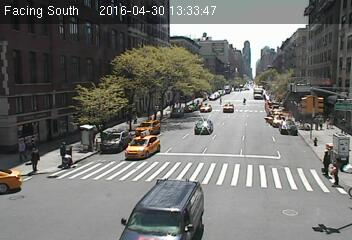neg: (34, 189, 63, 228), (68, 75, 97, 114), (103, 175, 131, 212), (6, 168, 33, 205), (116, 22, 143, 59), (169, 134, 194, 167), (73, 36, 95, 67), (40, 52, 62, 82), (252, 108, 273, 136), (158, 195, 179, 222), (263, 41, 284, 68), (300, 39, 320, 66), (175, 22, 194, 48), (201, 24, 219, 49), (146, 31, 164, 55), (102, 36, 119, 59), (225, 162, 242, 184), (277, 201, 289, 217), (254, 156, 266, 171), (244, 62, 250, 70)
pos: (325, 156, 348, 186), (51, 139, 70, 164), (25, 146, 43, 170), (319, 148, 335, 169), (13, 139, 25, 155), (310, 116, 322, 132), (340, 115, 351, 132), (324, 115, 334, 128), (218, 94, 227, 107), (240, 95, 247, 105), (134, 112, 141, 121)
